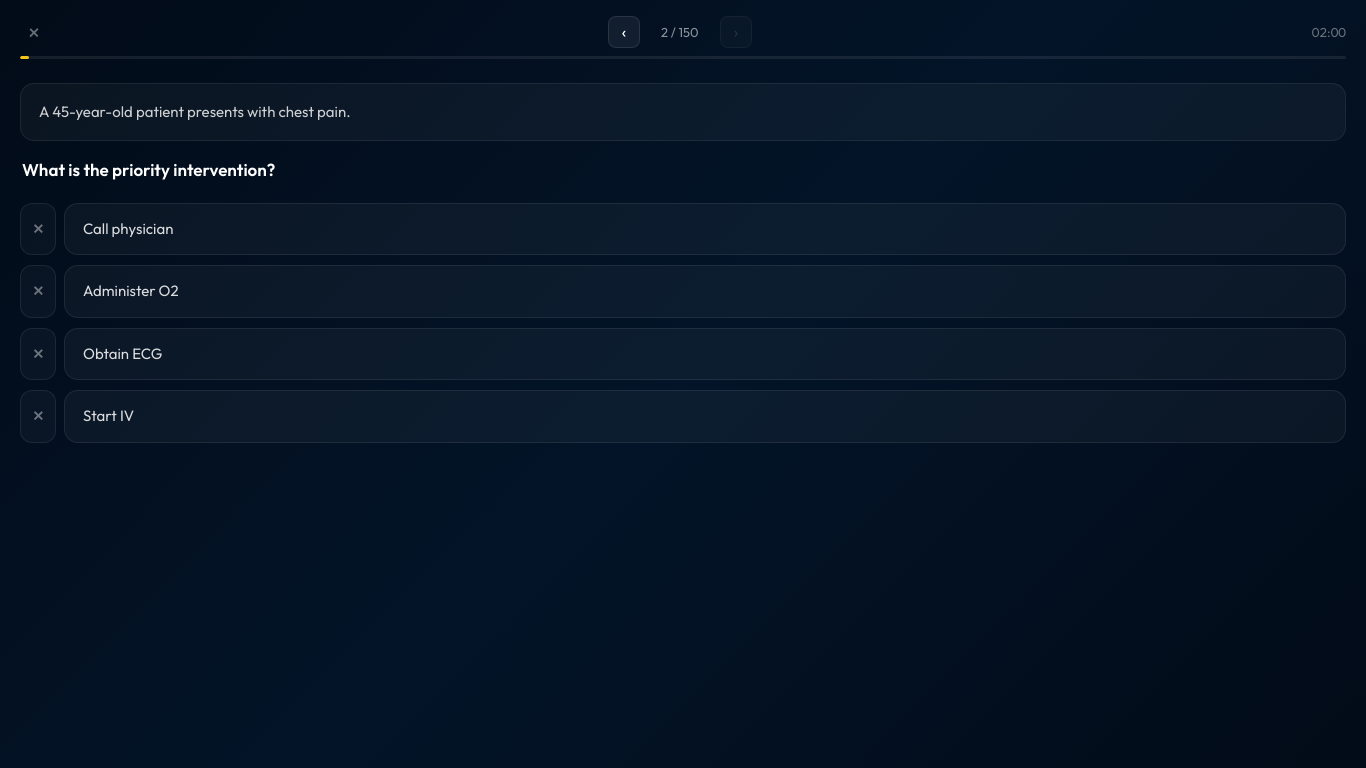
Test: CATScreen › "Back to current" returns to the unanswered question
Click the button named "Previous question".
click(624, 32)  # box [608,16,640,48]
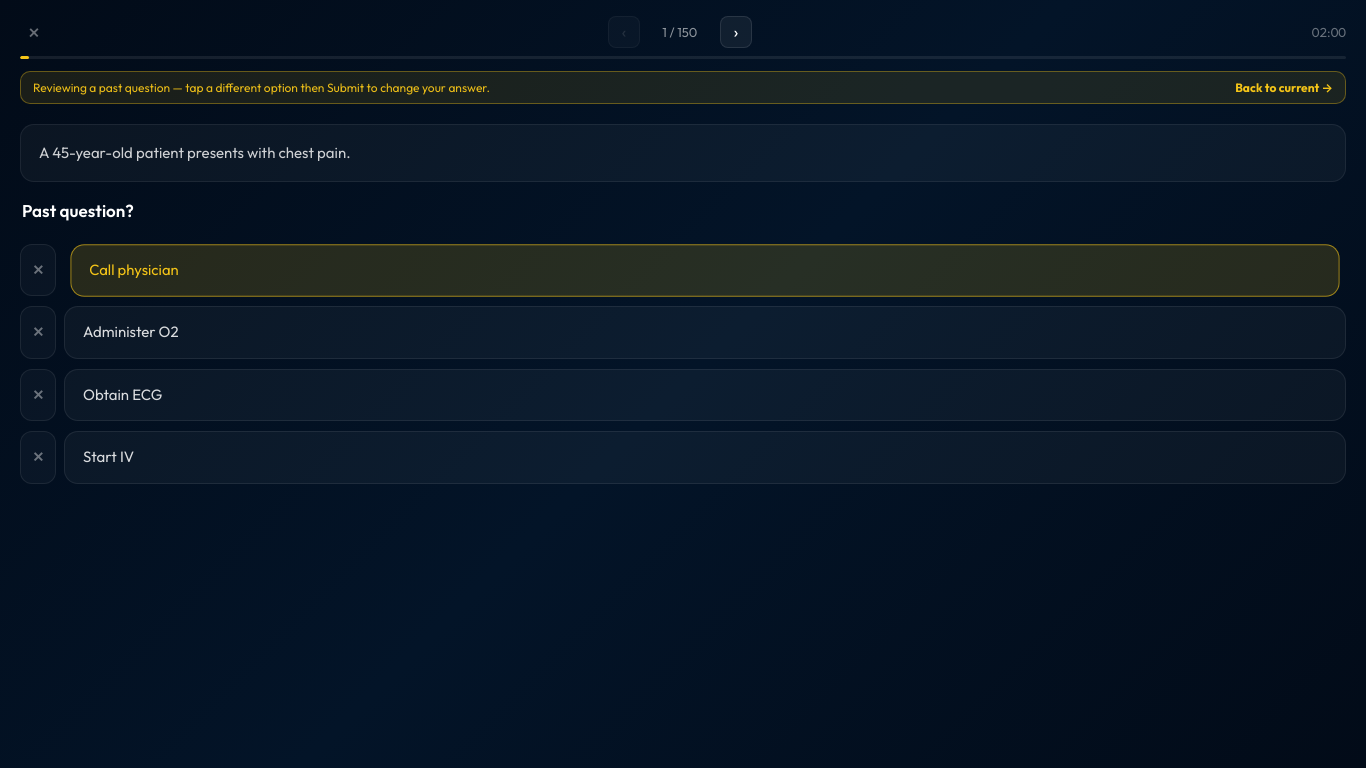
Expected: the text "Past question?" is shown, [22,200,134,221]
Click the button "Back to current →".
click(1284, 88)  # box [1235,80,1333,95]
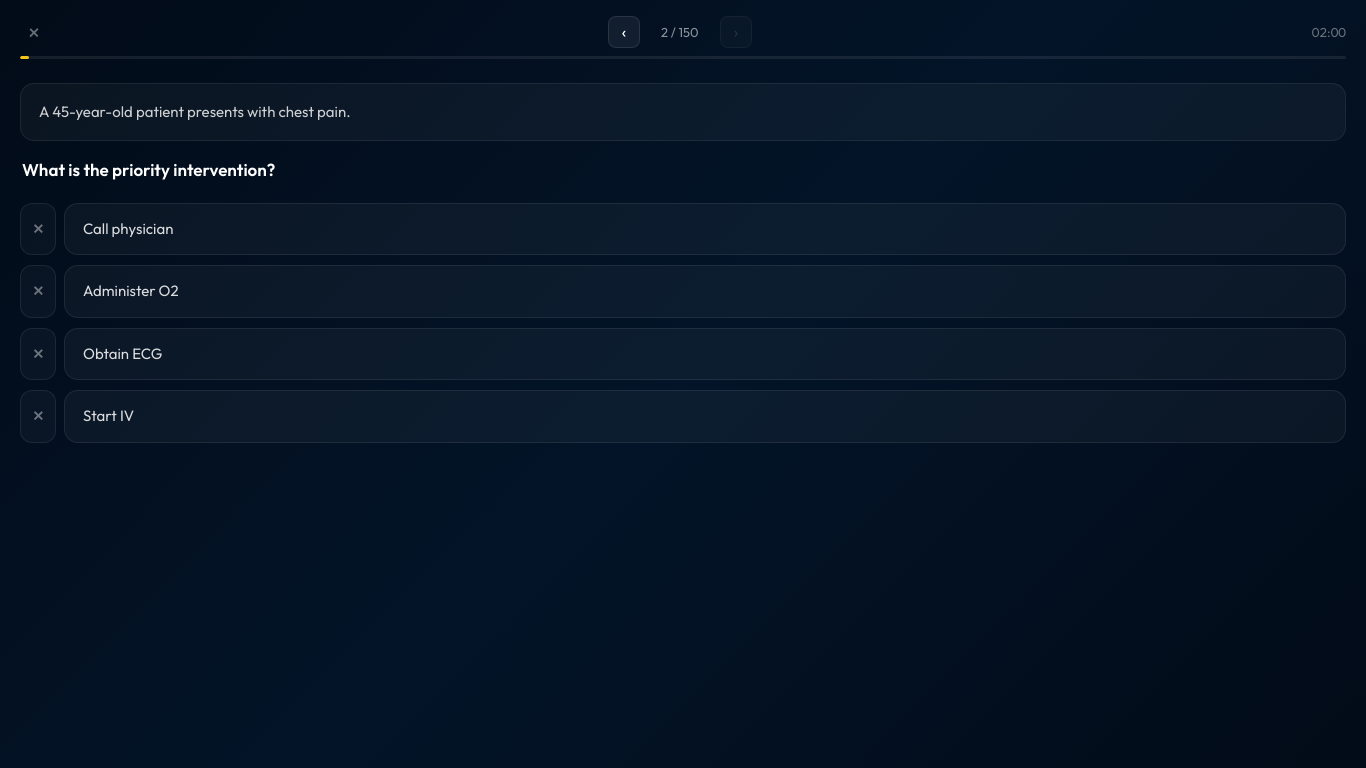
Expected: the text "What is the priority intervention?" is shown, [22,159,275,180]
Expected: the text "Reviewing a past question" is gone
